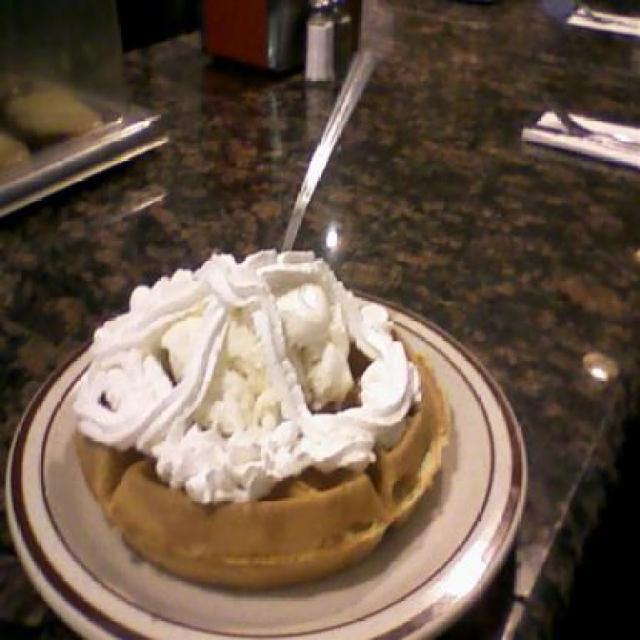Cake: (70, 248, 452, 588)
